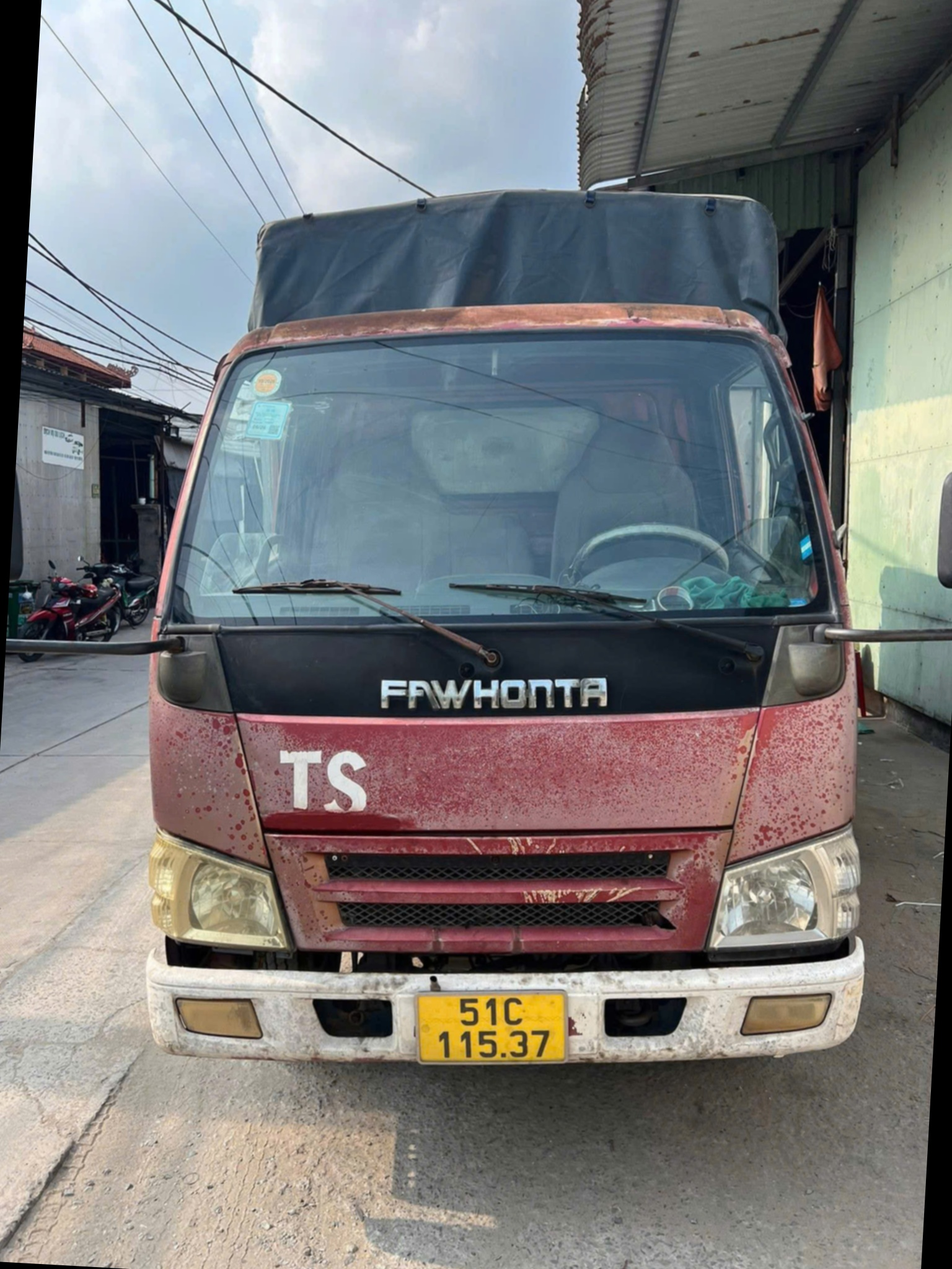Bien-so: (429, 966, 597, 1068)
